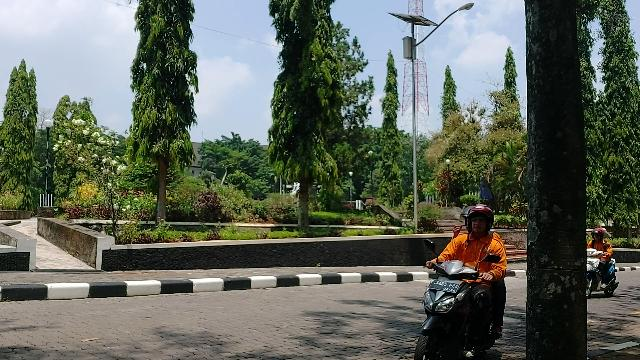helm: (469, 206, 495, 234), (592, 229, 605, 241)
motor: (415, 262, 503, 360), (589, 250, 620, 299)
